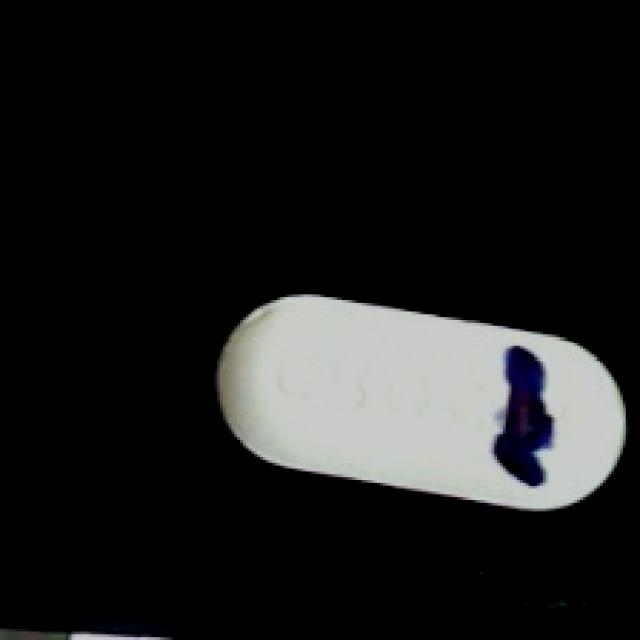defected: (206, 292, 631, 512)
